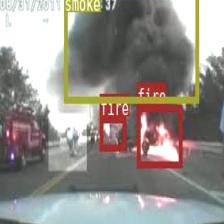fire: (136, 104, 182, 166), (100, 116, 126, 149)
smoke: (64, 0, 198, 103)
